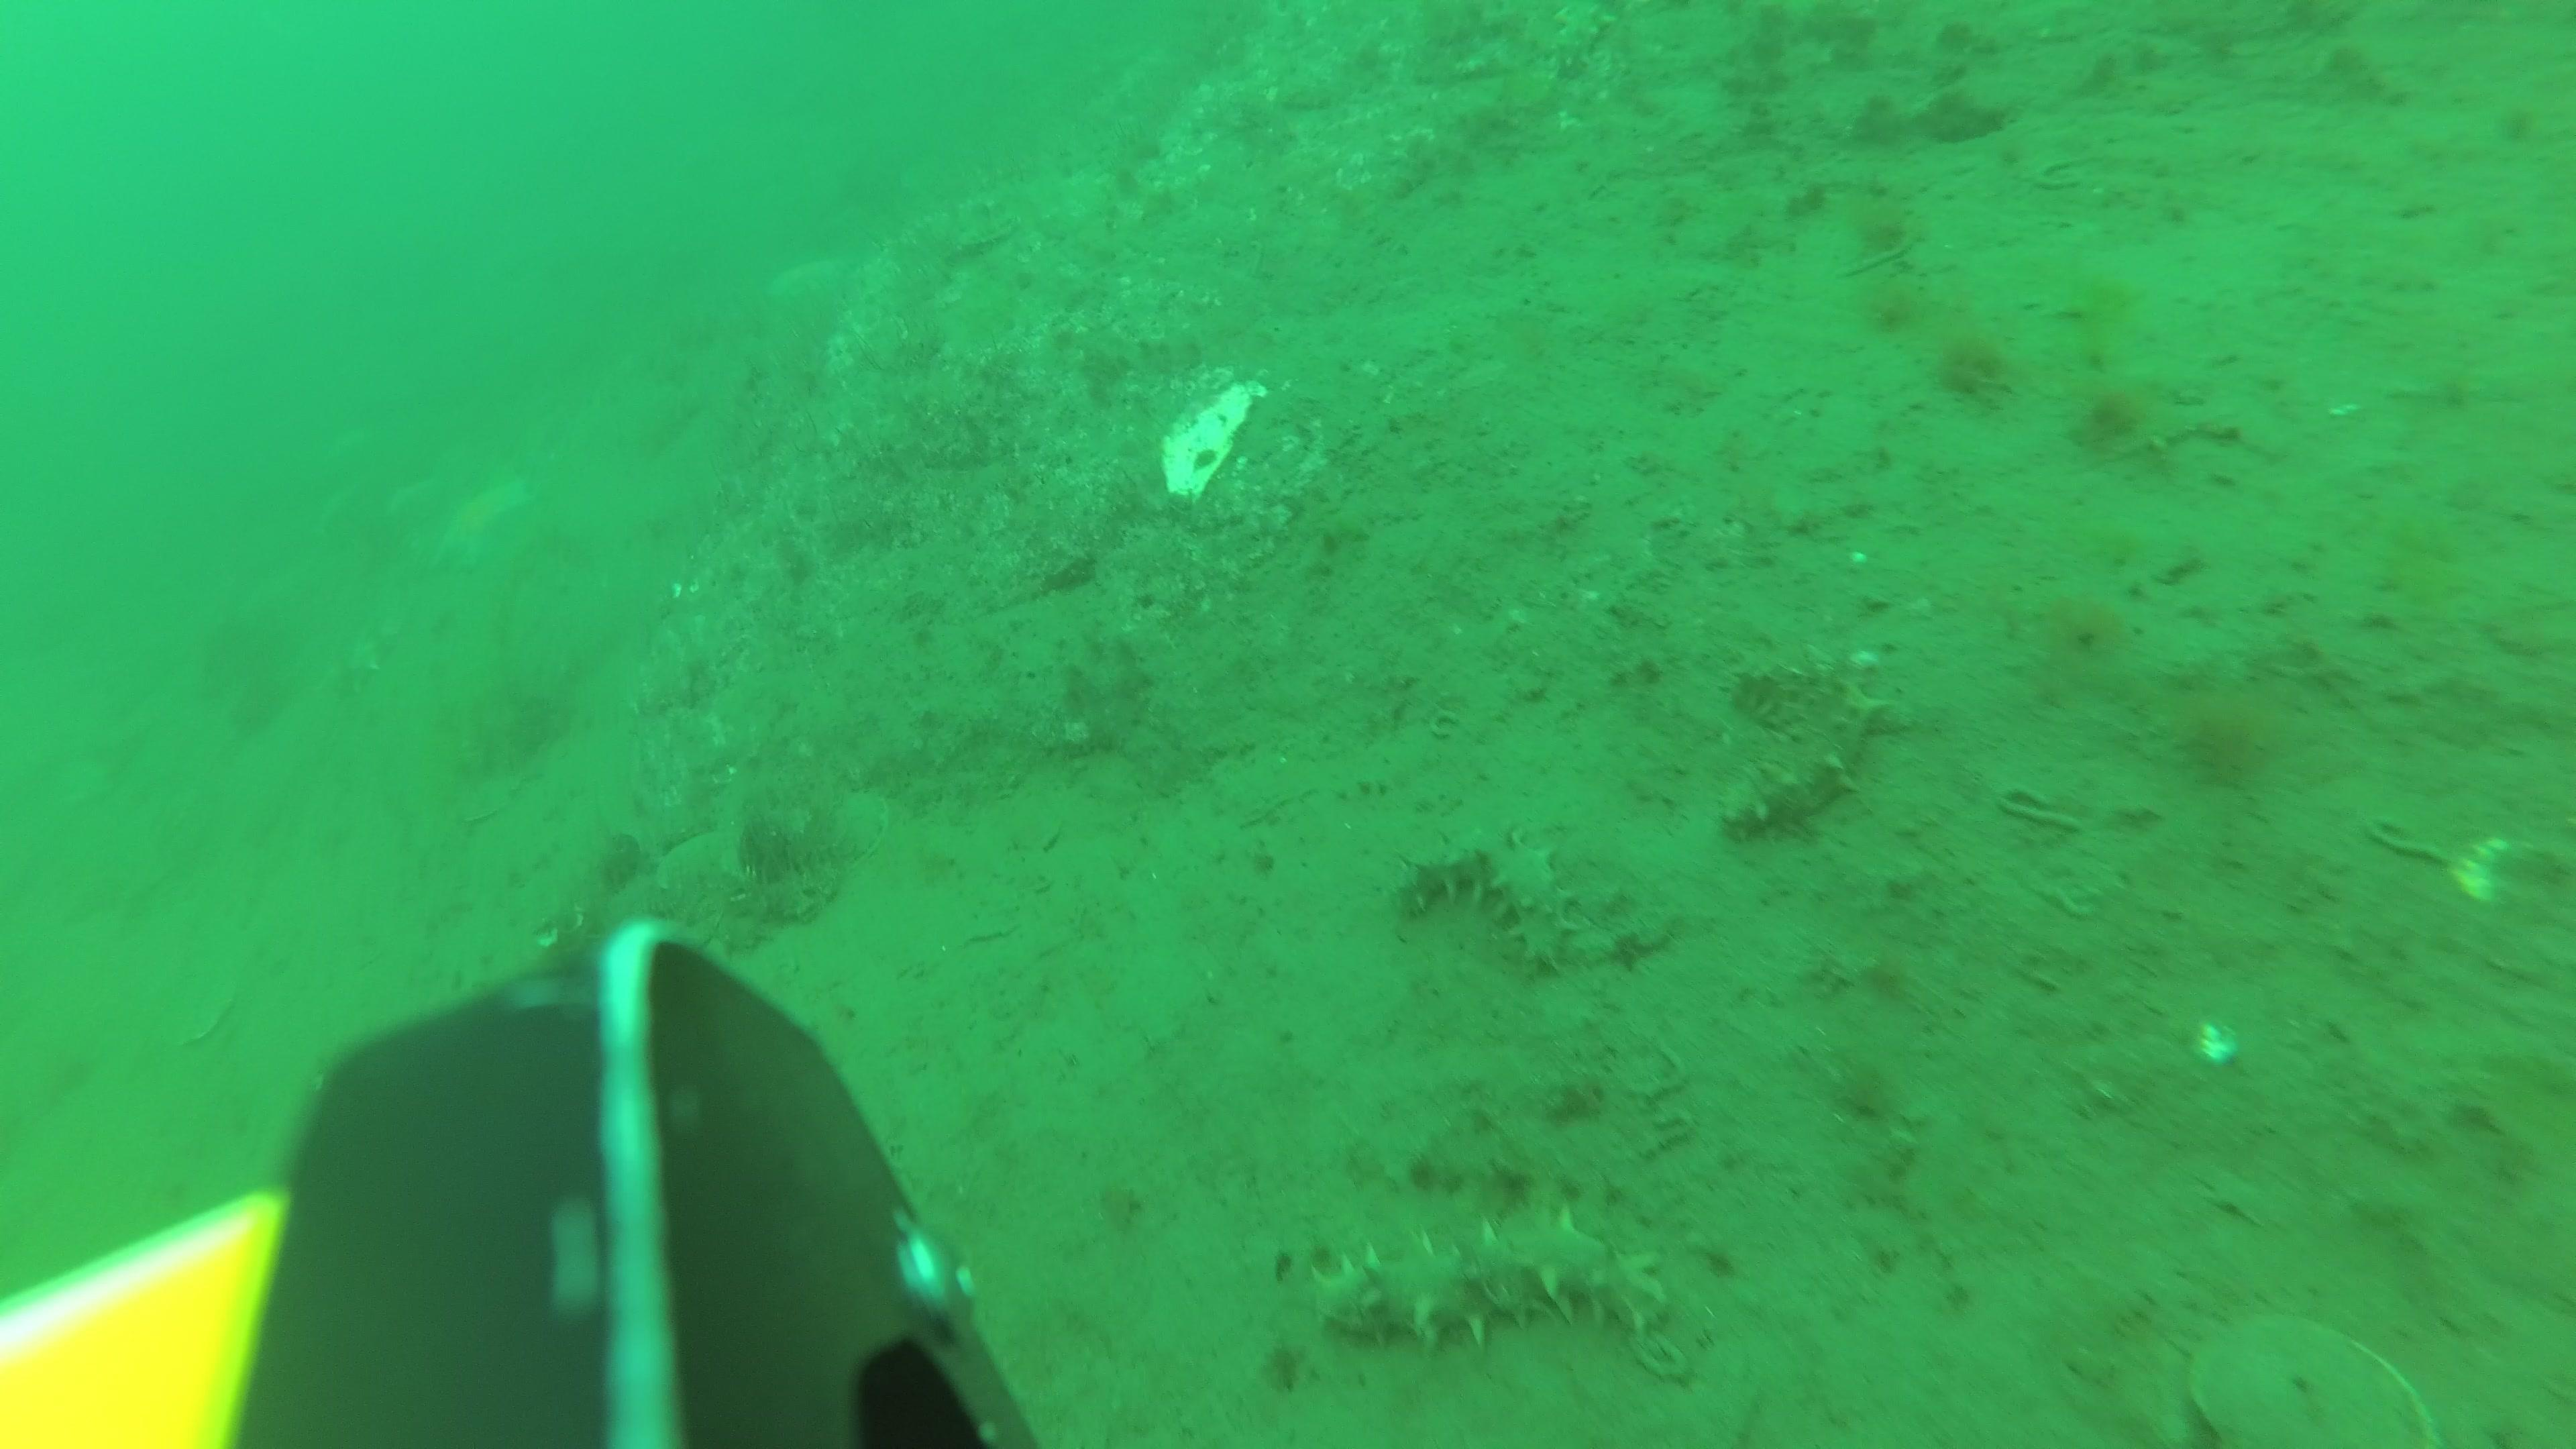holothurian: (1316, 1212, 1674, 1348), (1727, 662, 1888, 846), (1403, 828, 1583, 977)
scallop: (2201, 1306, 2442, 1449)
starfish: (437, 474, 527, 571)
